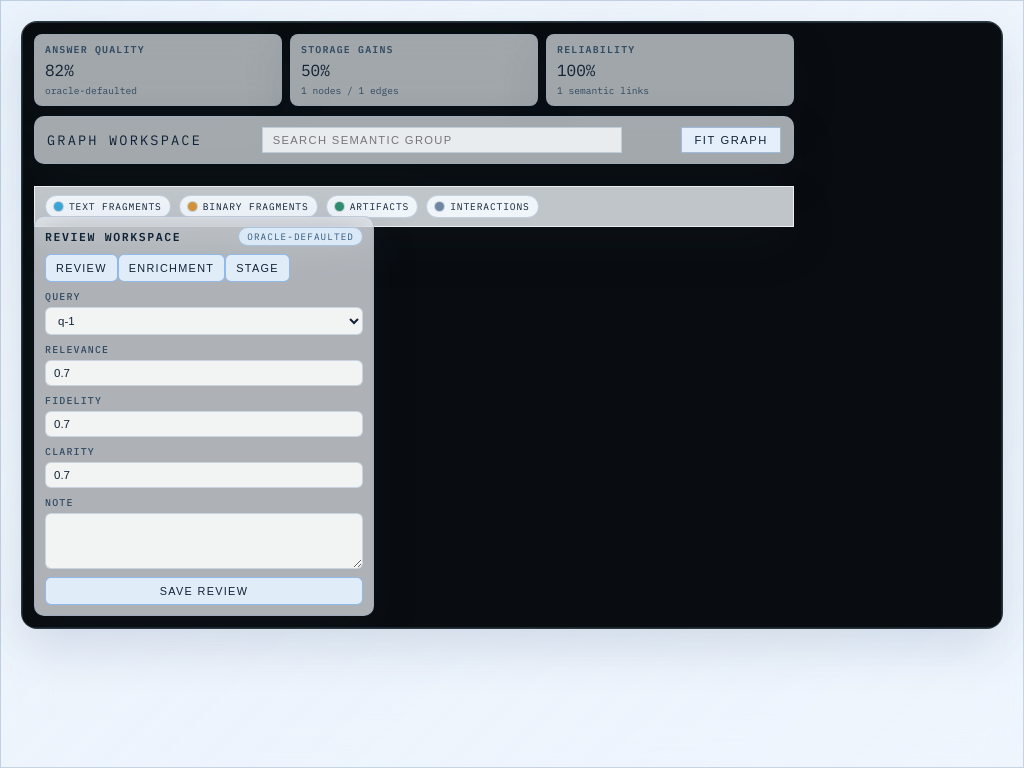
Scenario: shows full explanation details in inspector
Step 1. Type "revenue" into the search field with placeholder "Search semantic group" → (442, 140), box [262,127,622,153]
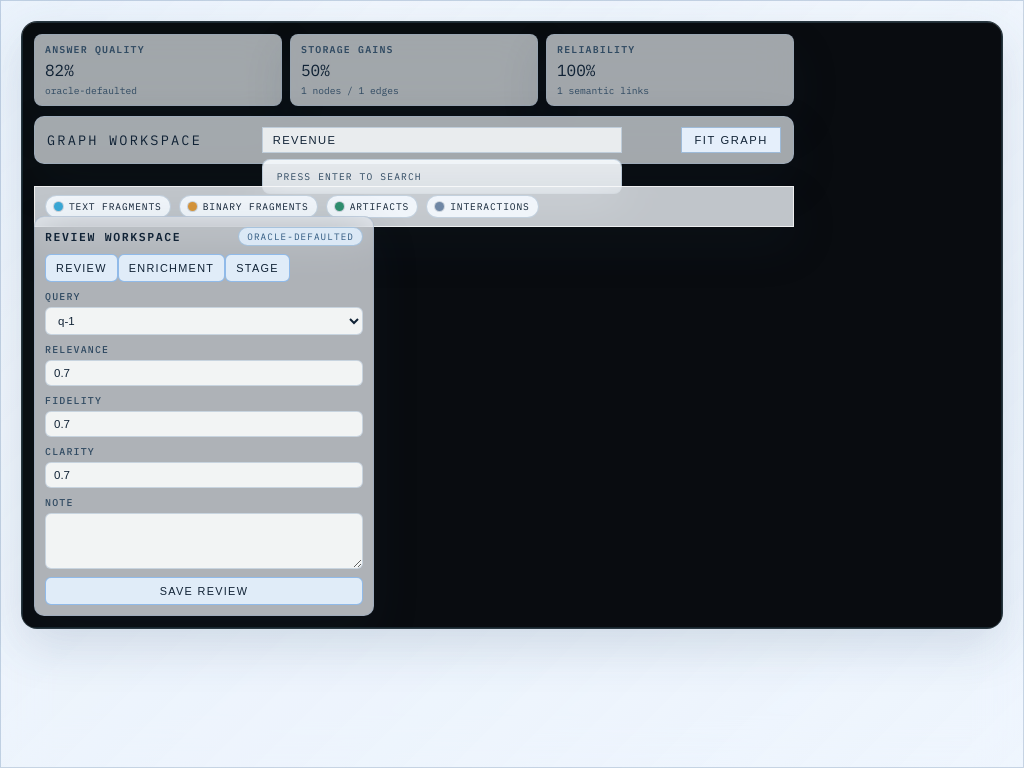
Step 2. Submit the form with placeholder "Search semantic group", box [262,127,622,153]
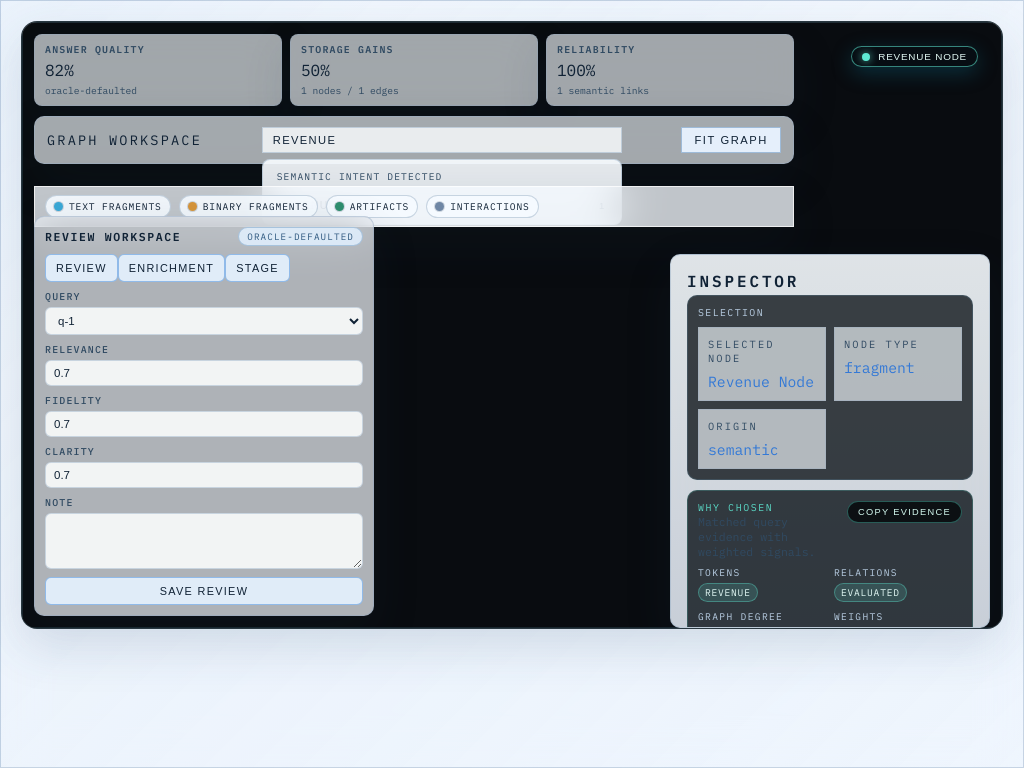
Expected: the text "Why Chosen" is shown, [698,501,773,514]
Expected: the text "Matched query evidence with weighted signals." is shown, [698,514,816,559]
Expected: the text "Why Chosen" shows "revenue", [705,586,751,599]
